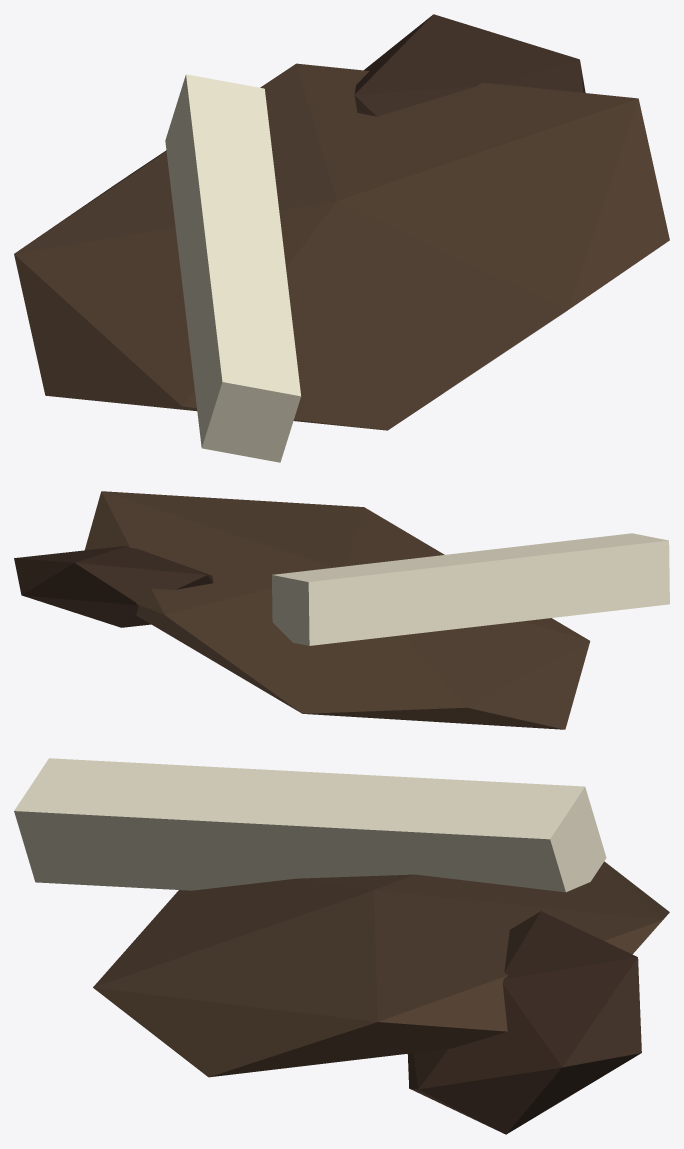
The model's file is enemy_mire_herald_fragment_hide.glb.
3 renders of one model, top to bottom at view 1: azimuth 30°, elevation 25°; view 2: azimuth 150°, elevation 25°; view 3: azimuth 270°, elevation 25°, orthographic. The views are drawn at different scales.
Parts seen in each view (by area): view 1: Fragment_Hide_Sheet, Fragment_Hide_Rib, Fragment_Hide_Fold; view 2: Fragment_Hide_Sheet, Fragment_Hide_Rib, Fragment_Hide_Fold; view 3: Fragment_Hide_Sheet, Fragment_Hide_Rib, Fragment_Hide_Fold.
Boxes of the visible parts, x1,y1,x2,y2 form: Fragment_Hide_Sheet: (14, 63, 669, 430); Fragment_Hide_Rib: (165, 74, 301, 462); Fragment_Hide_Fold: (354, 14, 585, 116); Fragment_Hide_Sheet: (85, 491, 590, 729); Fragment_Hide_Rib: (272, 533, 669, 645); Fragment_Hide_Fold: (14, 546, 213, 627); Fragment_Hide_Sheet: (93, 861, 669, 1077); Fragment_Hide_Rib: (14, 758, 606, 892); Fragment_Hide_Fold: (407, 911, 641, 1134).
Bounding box in the file's own units: 0.4357 × 0.1334 × 0.369.
